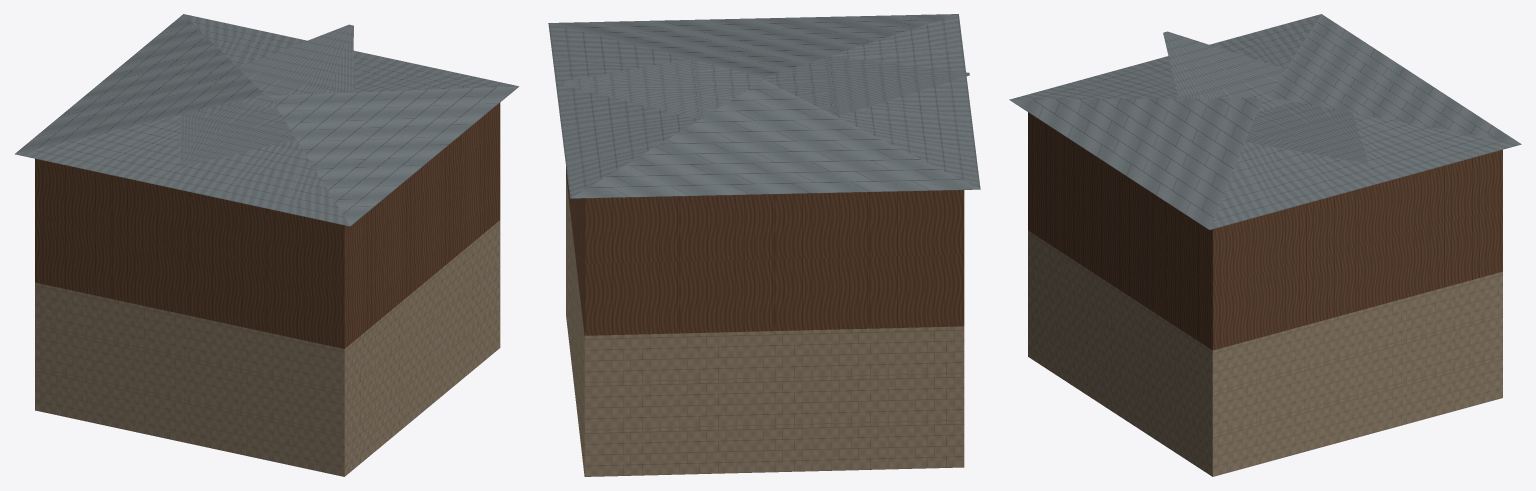
File: bld_c20_32_367.gltf
3 views of the same model, side by side, from view 1: azimuth 30°, elevation 25°; view 2: azimuth 150°, elevation 25°; view 3: azimuth 270°, elevation 25° (orthographic). The views are drawn at different scales.
Parts seen in each view (by area): view 1: bld_c20_32_367; view 2: bld_c20_32_367; view 3: bld_c20_32_367.
Boxes of the visible parts, left/top/right/bottom form: bld_c20_32_367: left=15, top=14, right=518, bottom=476; bld_c20_32_367: left=548, top=14, right=980, bottom=476; bld_c20_32_367: left=1009, top=14, right=1521, bottom=476.
Size of the model in its own units: 18.71 by 11.3 by 18.76.
Materials: 3 (3 with a texture image).
